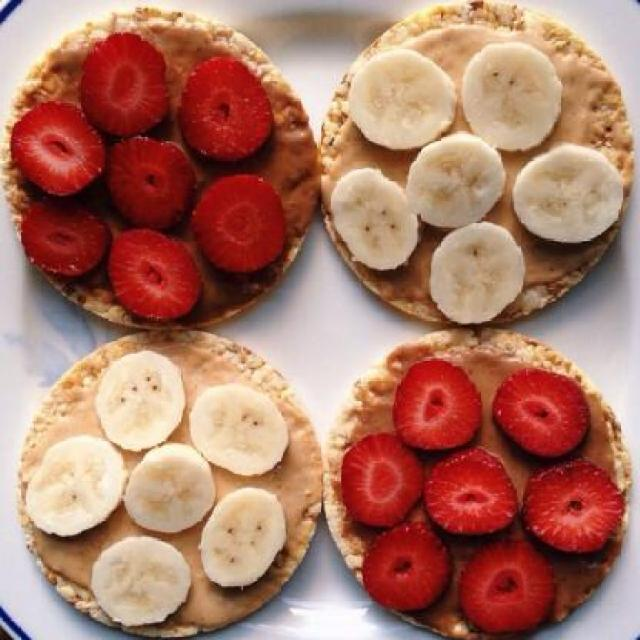Banana: (346, 48, 456, 150), (462, 41, 564, 150), (513, 142, 621, 235), (28, 437, 124, 537), (429, 223, 523, 325), (191, 384, 291, 478), (96, 352, 189, 450), (408, 134, 504, 228), (90, 534, 192, 622), (331, 169, 418, 269), (201, 490, 287, 588), (125, 446, 217, 528)
Gallette di riso packaged: (2, 6, 322, 342), (320, 1, 638, 332), (322, 328, 636, 640), (16, 330, 324, 639)
Strawberry: (522, 460, 626, 552), (81, 32, 170, 134), (179, 56, 272, 152), (494, 368, 590, 461), (193, 176, 284, 270), (106, 229, 200, 320), (12, 103, 108, 191), (364, 524, 458, 613), (424, 448, 521, 534), (338, 430, 422, 528), (462, 543, 556, 628), (107, 141, 196, 230), (395, 358, 480, 447), (21, 193, 107, 270)
